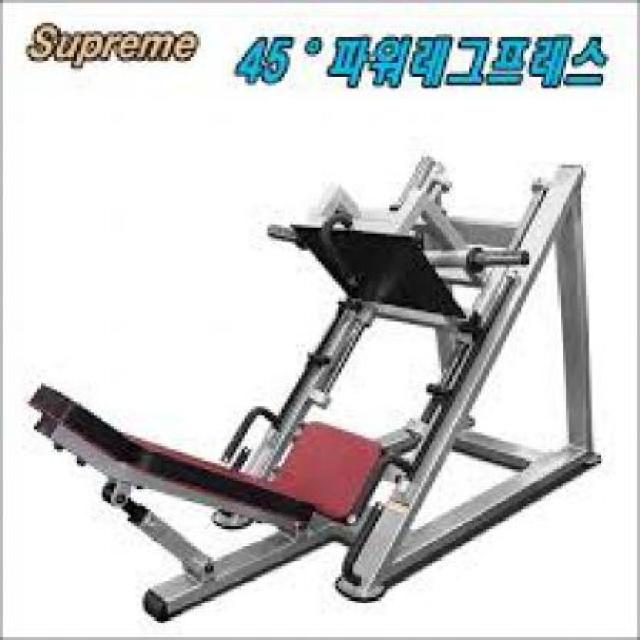leg press: (26, 138, 631, 624)
